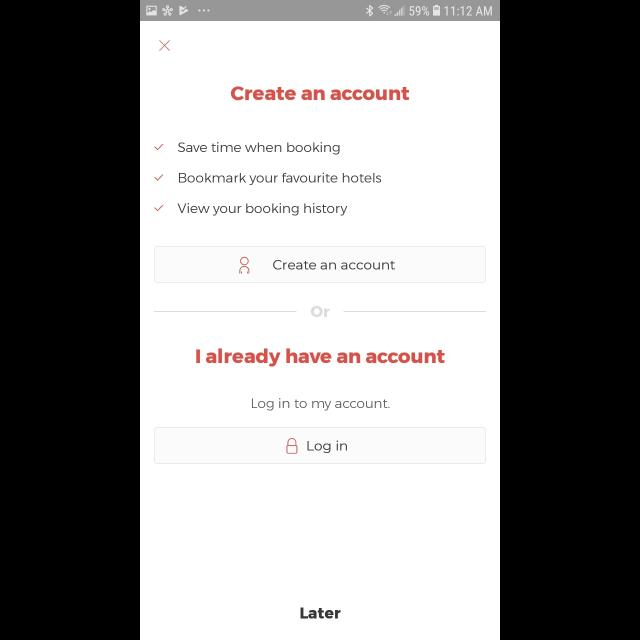icon: (159, 40, 171, 52), (154, 144, 164, 152), (154, 174, 164, 182), (156, 205, 164, 211)
text: (197, 348, 446, 368), (178, 172, 382, 185), (230, 87, 410, 101), (178, 204, 348, 216), (178, 142, 340, 154), (252, 397, 390, 411), (301, 607, 341, 619), (310, 306, 330, 318)
textbutton: (154, 245, 486, 283), (154, 428, 486, 464)
uppertaskbar: (140, 1, 500, 22)
